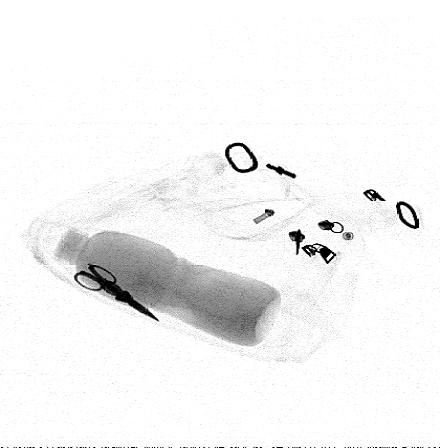Scissors: (73, 264, 160, 322)
